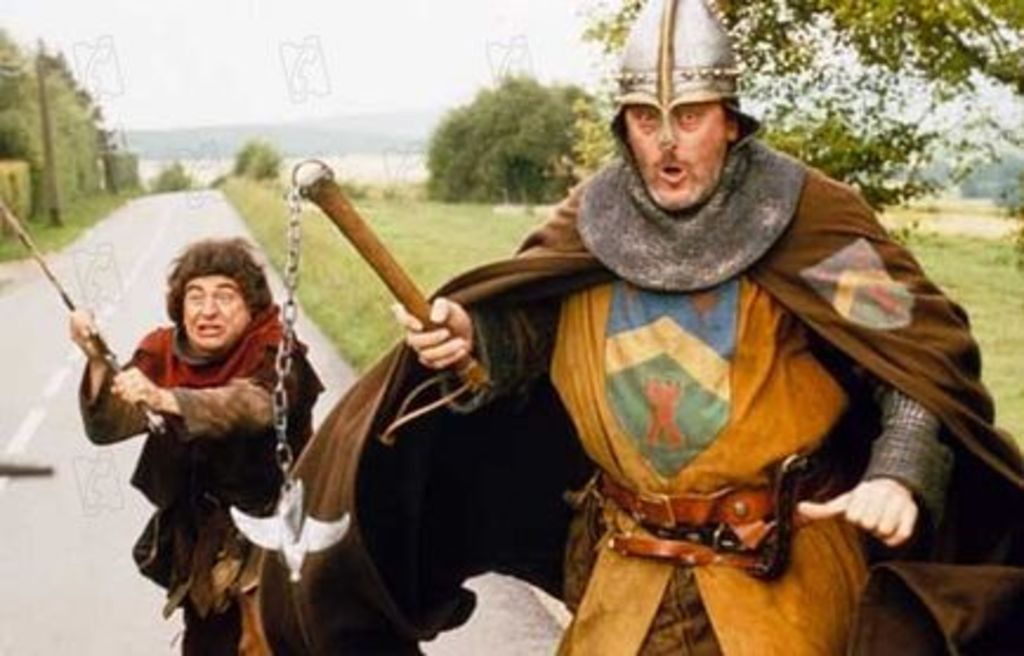Person: (229, 0, 1024, 655), (68, 237, 322, 656)
